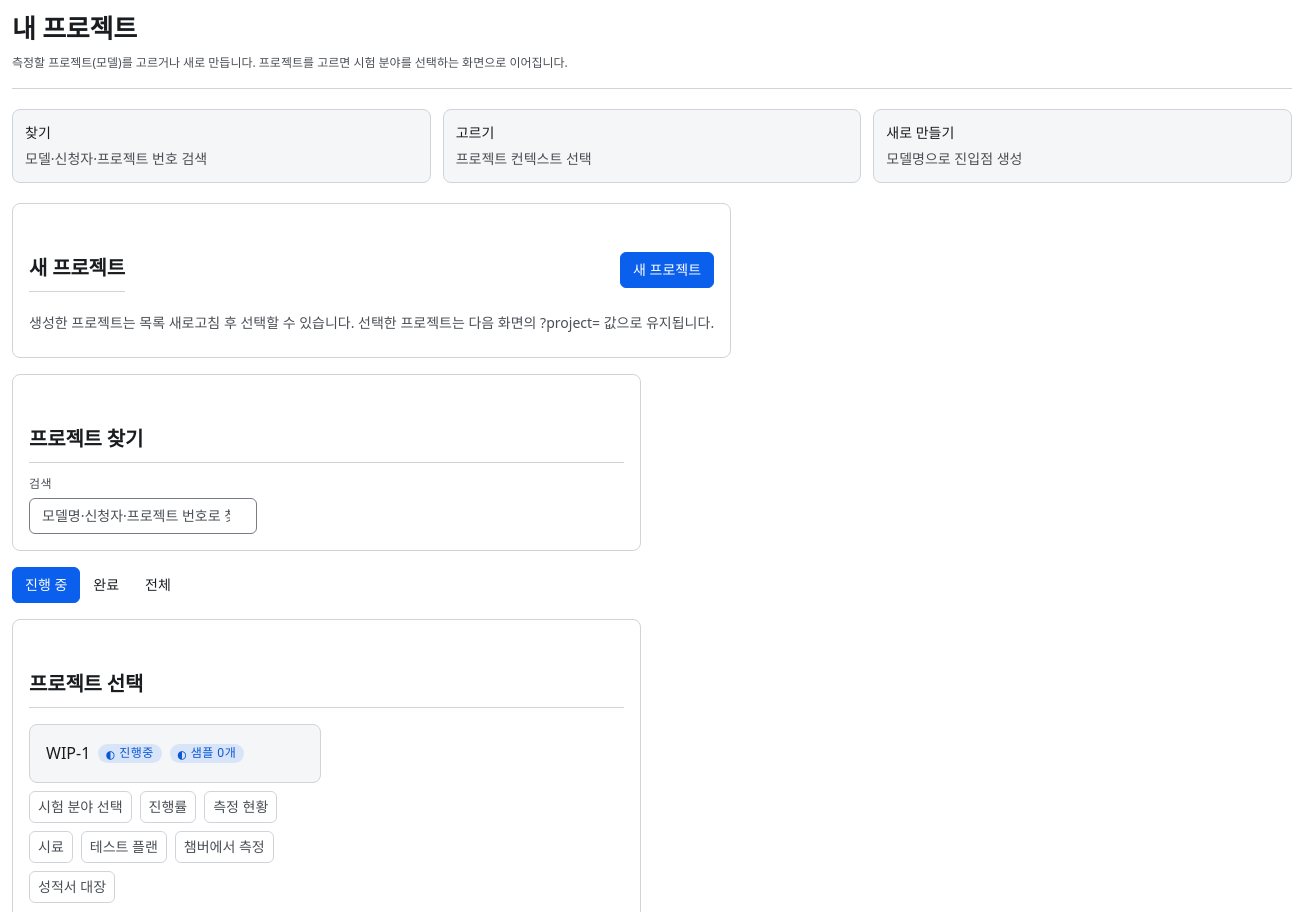
Test case: MyProjectsRoute status filter + lifecycle (project-status-visibility) › requests active by default and swaps the RENDERED list on the status toggle
This screenshot has width=1292, height=912.
Expected: the text with test id "project-card-model" reads "WIP-1", 46,742 -> 90,764
Click the button with test id "project-status-completed": x=106, y=585 80,567 -> 132,603
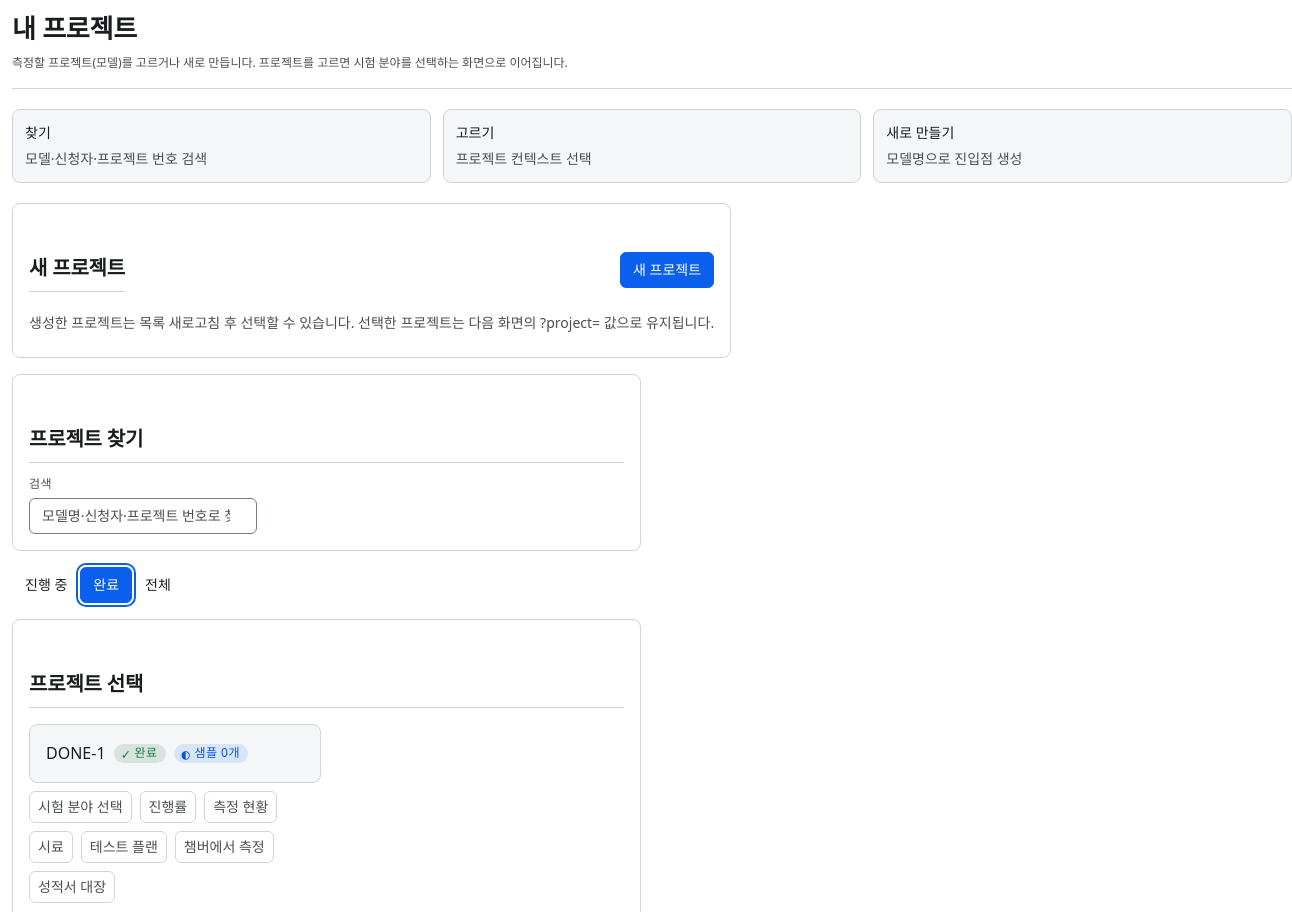
Expected: the text with test id "project-card-model" reads "DONE-1", 46,742 -> 106,764
